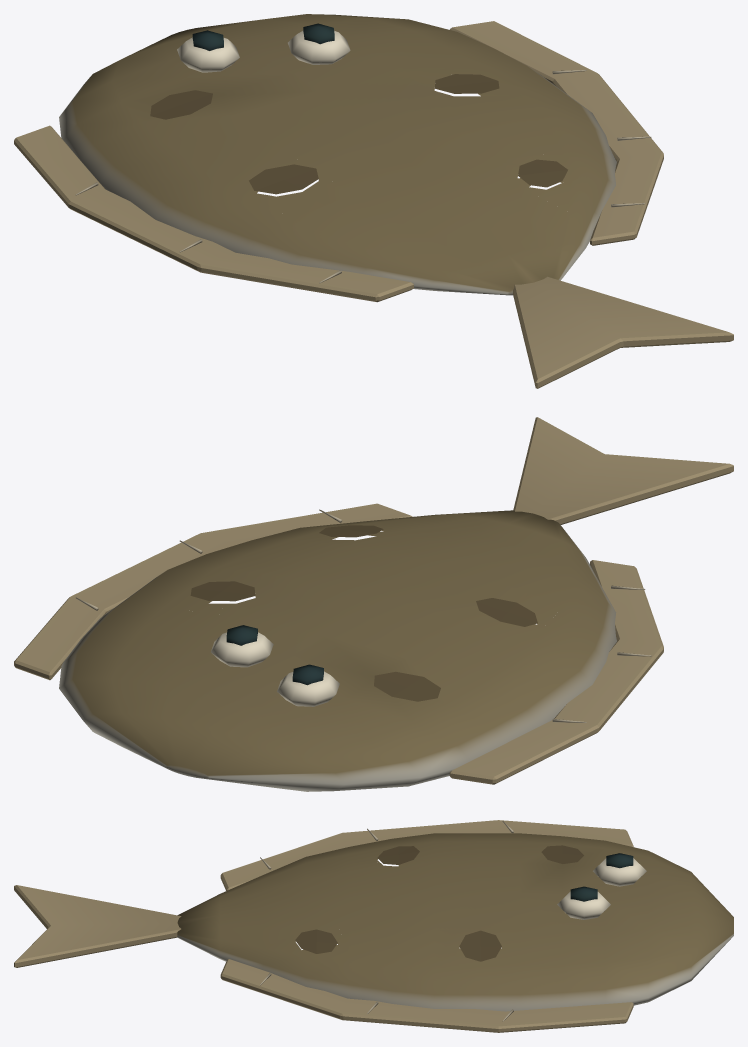
File: fish_flatfish.glb
The picture shows the model from 3 angles, top to bottom: view 1: azimuth 30°, elevation 25°; view 2: azimuth 150°, elevation 25°; view 3: azimuth 270°, elevation 25°; orthographic projection. The views are drawn at different scales.
Bounding box in the file's own units: 0.2596 × 0.0494 × 0.3797.
